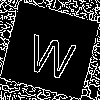W: (25, 24, 79, 82)
